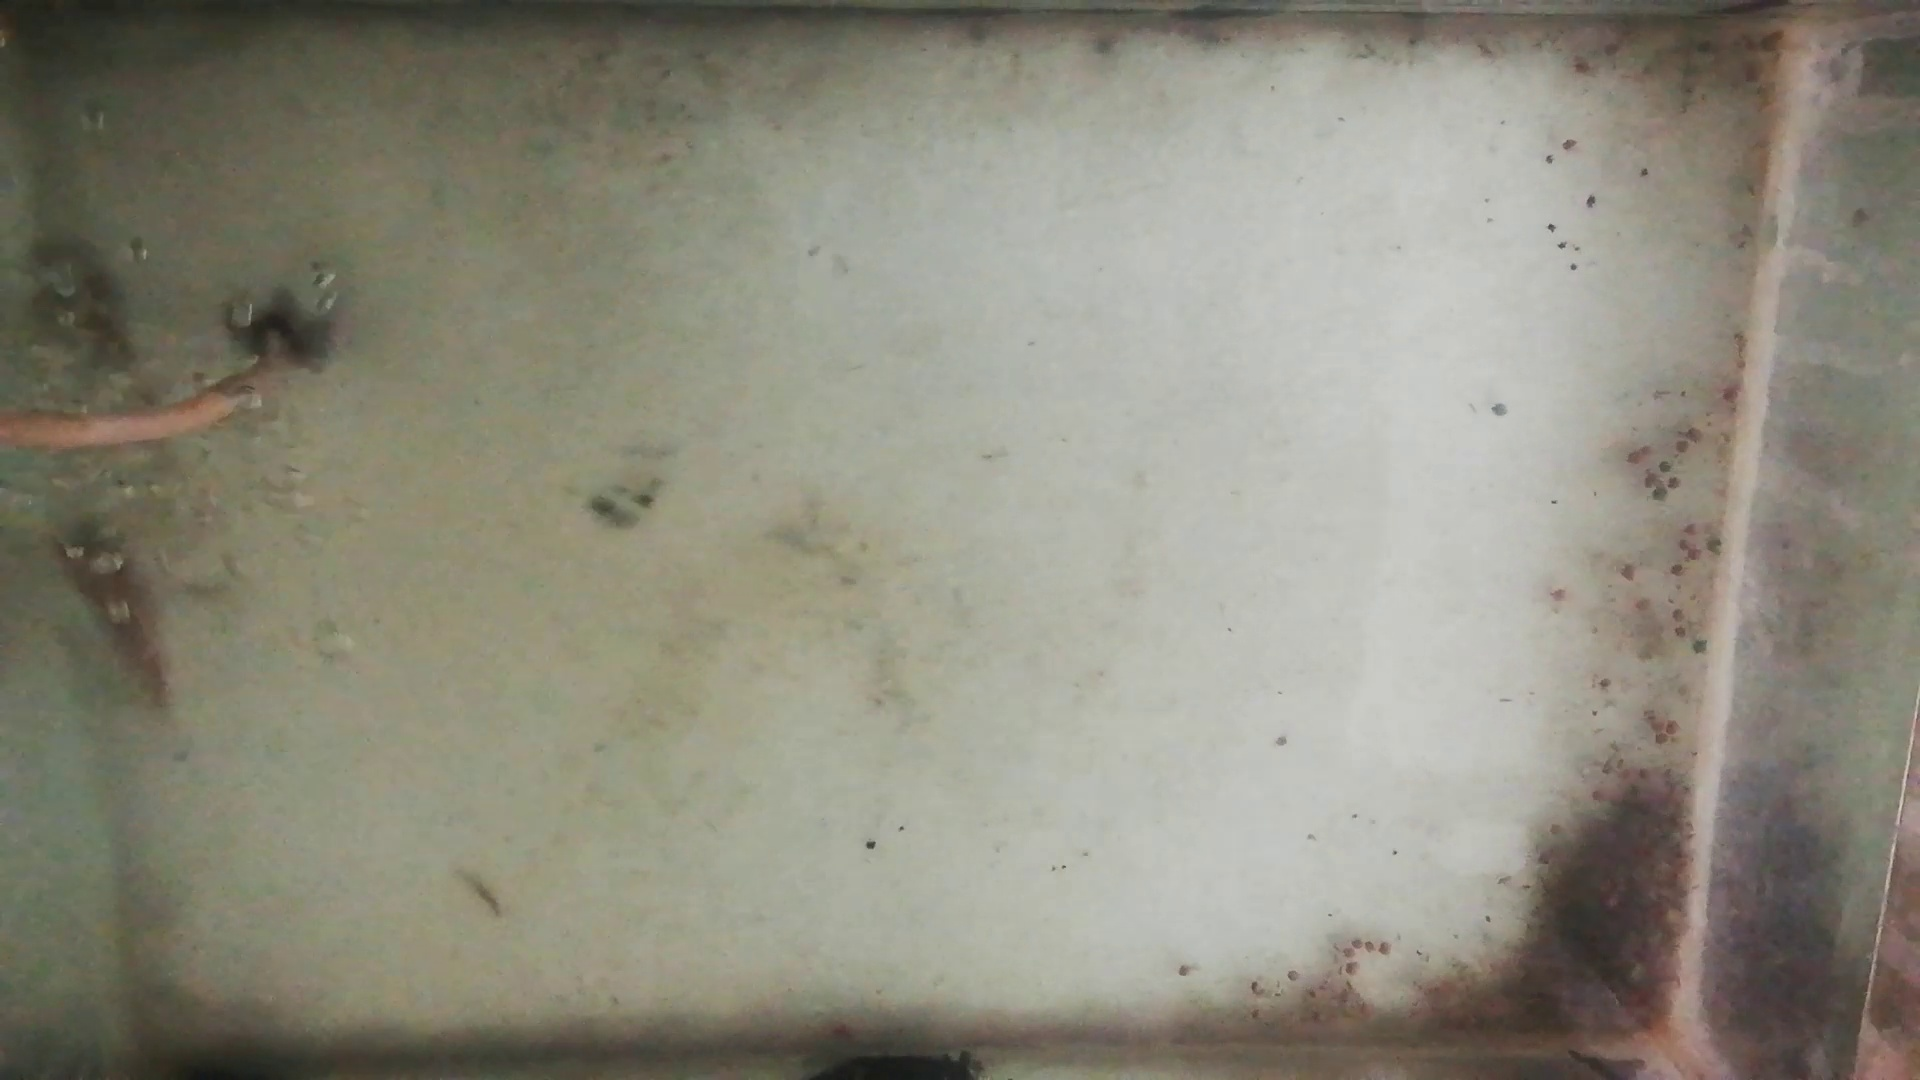fish: (61, 506, 170, 711), (36, 235, 142, 393)
